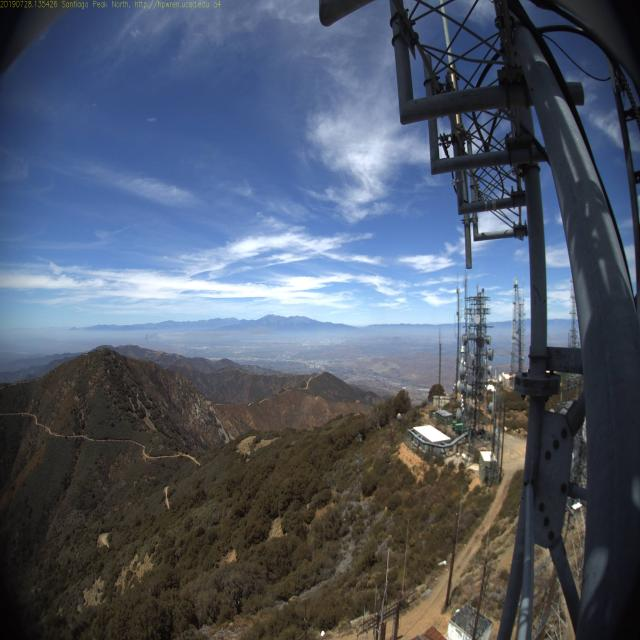smoke: (139, 320, 166, 351)
